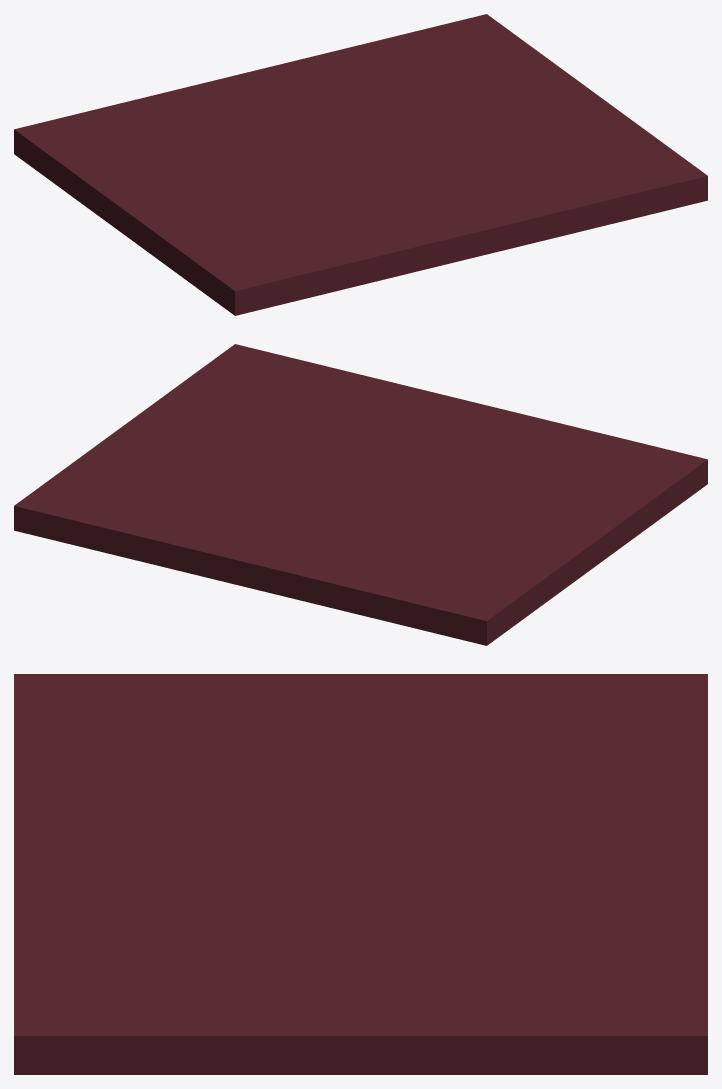
The model's file is Twoway.fbx.
3 views of the same model, one above another, from view 1: azimuth 30°, elevation 25°; view 2: azimuth 150°, elevation 25°; view 3: azimuth 270°, elevation 25° (orthographic). The views are drawn at different scales.
Visible parts, largest first — view 1: Twoway; view 2: Twoway; view 3: Twoway.
Boxes of the visible parts, x1,y1,x2,y2 form: Twoway: (14, 14, 707, 315); Twoway: (14, 344, 707, 645); Twoway: (14, 674, 707, 1074).
Bounding box in the file's own units: 100 × 5 × 81.
